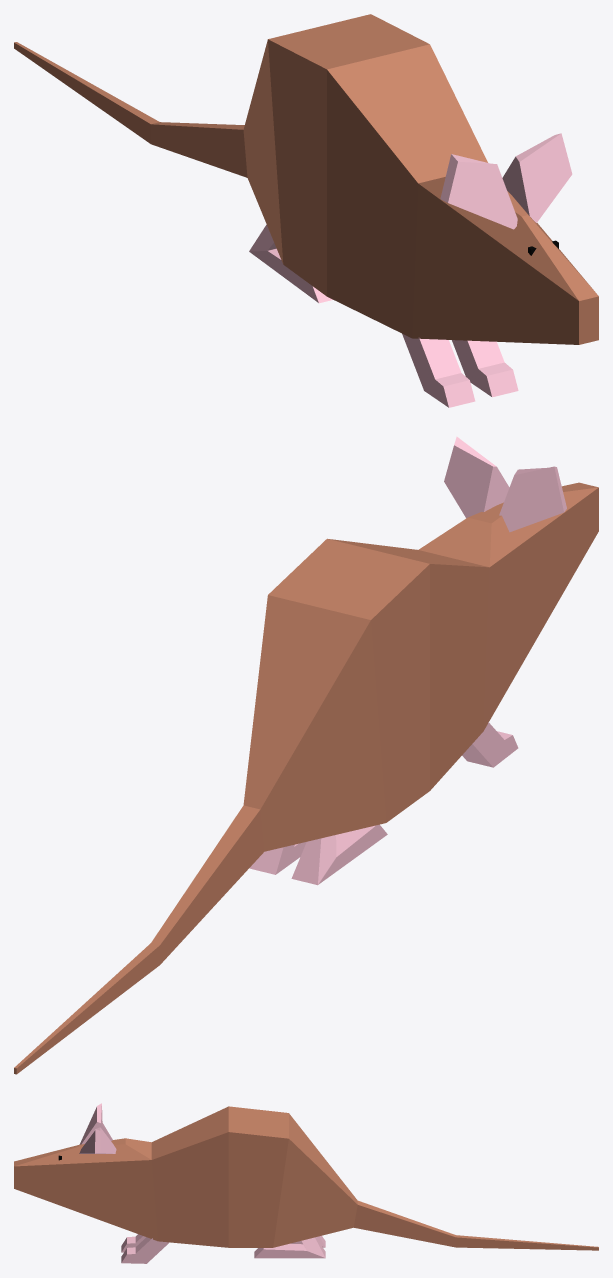
File: OldRat.fbx
3 renders of one model, top to bottom at view 1: azimuth 30°, elevation 25°; view 2: azimuth 150°, elevation 25°; view 3: azimuth 270°, elevation 25°, orthographic. The views are drawn at different scales.
Visible parts, largest first — view 1: Body, Ear, Ear.001, Foot.001, Foot, Foot.002; view 2: Body, Ear, Ear.001, Foot.002, Foot.001, Foot.003; view 3: Body, Foot.003, Foot, Ear, Ear.001, Foot.001.
Boxes of the visible parts, left/top/right/bottom form: Body: left=14, top=14, right=598, bottom=344; Ear: left=502, top=133, right=572, bottom=222; Ear.001: left=440, top=154, right=517, bottom=229; Foot.001: left=402, top=333, right=475, bottom=407; Foot: left=452, top=340, right=518, bottom=397; Foot.002: left=249, top=224, right=332, bottom=303; Body: left=14, top=482, right=598, bottom=1074; Ear: left=444, top=436, right=509, bottom=518; Ear.001: left=499, top=466, right=566, bottom=532; Foot.002: left=291, top=824, right=387, bottom=885; Foot.001: left=462, top=722, right=518, bottom=767; Foot.003: left=249, top=842, right=306, bottom=874; Body: left=14, top=1106, right=598, bottom=1250; Foot.003: left=254, top=1237, right=325, bottom=1258; Foot: left=121, top=1237, right=169, bottom=1263; Ear: left=79, top=1127, right=116, bottom=1153; Ear.001: left=79, top=1103, right=112, bottom=1144; Foot.001: left=121, top=1234, right=145, bottom=1252.
Size of the model in its own units: 14.08 by 29.5 by 112.
